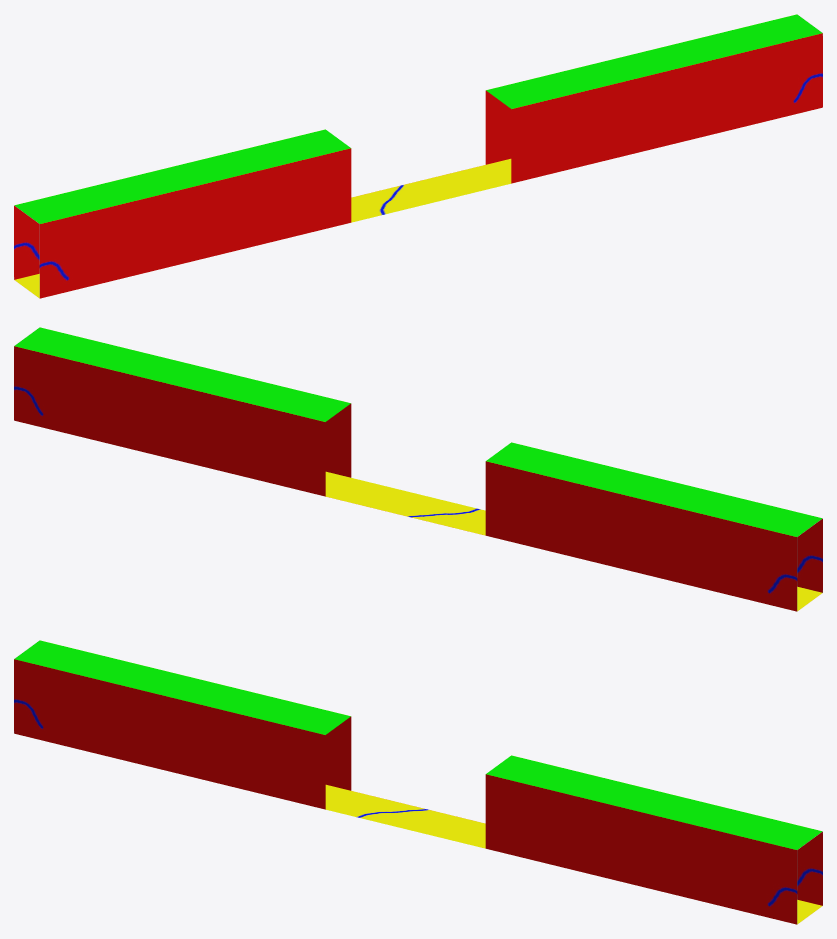
File: gangjin_kuangjia.FBX
3 views of the same model, one above another, from view 1: azimuth 30°, elevation 25°; view 2: azimuth 150°, elevation 25°; view 3: azimuth 330°, elevation 25° (orthographic).
Visible parts, largest first — view 1: z001; view 2: z001; view 3: z001.
Boxes of the visible parts, box(x1,y1,x2,y2) form: z001: box(14, 14, 822, 298); z001: box(14, 327, 822, 611); z001: box(14, 640, 822, 924).
Size of the model in its own units: 1.76 by 0.16 by 0.1.
Materials: 1 (1 with a texture image).
